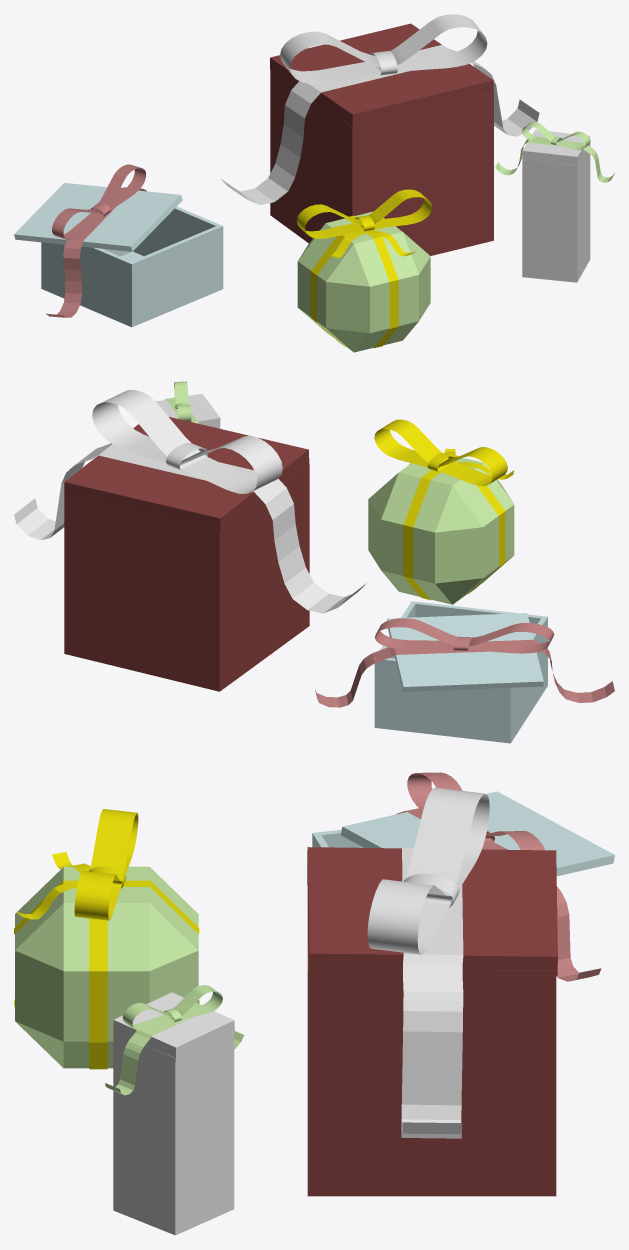
Rendered from Presents.fbx.
3 renders of one model, top to bottom at view 1: azimuth 30°, elevation 25°; view 2: azimuth 150°, elevation 25°; view 3: azimuth 270°, elevation 25°, orthographic. The views are drawn at different scales.
Parts seen in each view (by area): view 1: Present2_Box, Present1_Box, Bow2 (×2), polySurface3, Box1, polySurface6, Bow; view 2: Present2_Box, Present1_Box, Bow2 (×2), polySurface3, polySurface6, Bow, Box1; view 3: Present2_Box, Bow2 (×2), Box1, polySurface3, polySurface6, Present1_Box, Bow.
Boxes of the visible parts, left/top/right/bottom form: Present2_Box: left=270, top=23, right=493, bottom=255; Present1_Box: left=14, top=183, right=223, bottom=327; Bow2 (×2): left=221, top=14, right=614, bottom=204; polySurface3: left=297, top=211, right=430, bottom=352; Box1: left=522, top=129, right=590, bottom=282; polySurface6: left=297, top=189, right=432, bottom=348; Bow: left=46, top=164, right=146, bottom=317; Present2_Box: left=64, top=417, right=309, bottom=691; Present1_Box: left=374, top=601, right=547, bottom=743; Bow2 (×2): left=14, top=381, right=366, bottom=613; polySurface3: left=368, top=453, right=514, bottom=604; polySurface6: left=374, top=419, right=514, bottom=600; Bow: left=315, top=618, right=614, bottom=707; Box1: left=156, top=393, right=220, bottom=428; Present2_Box: left=307, top=847, right=557, bottom=1196; Bow2 (×2): left=105, top=787, right=489, bottom=1138; Box1: left=113, top=992, right=234, bottom=1235; polySurface3: left=15, top=866, right=198, bottom=1068; polySurface6: left=14, top=809, right=199, bottom=1069; Present1_Box: left=312, top=791, right=614, bottom=876; Bow: left=396, top=772, right=601, bottom=981.
Bounding box in the file's own units: 216 × 80.66 × 145.
